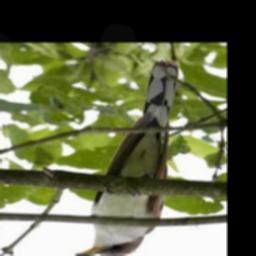Cuckoo: (73, 60, 180, 256)
